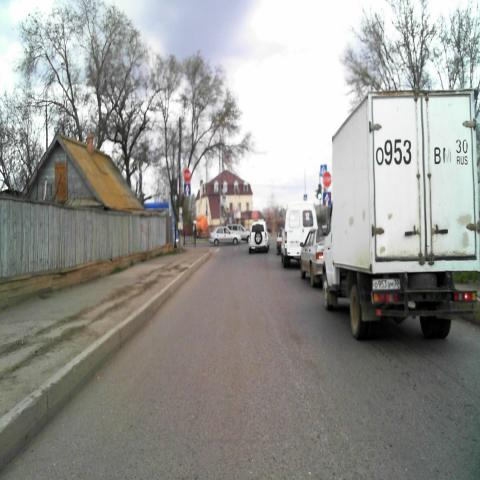5_6: (323, 190, 331, 207)
